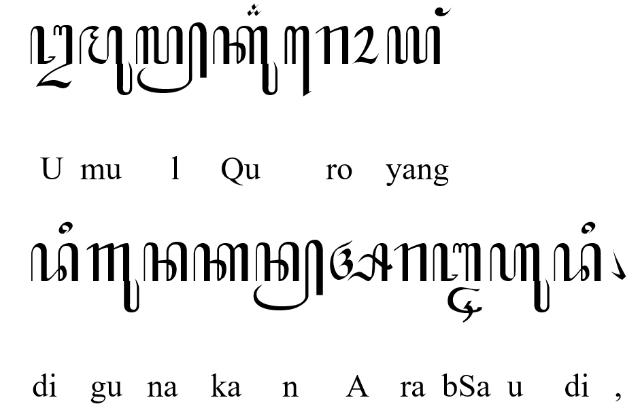-l: (136, 22, 208, 94)
-n: (252, 239, 324, 311)
A: (329, 240, 393, 282)
U: (30, 25, 74, 89)
_T: (448, 287, 482, 323)
alt: (247, 1, 261, 16)
b: (432, 243, 482, 284)
d: (29, 242, 79, 282), (554, 243, 602, 283)
e1: (282, 24, 312, 98)
gu: (84, 241, 140, 312)
hu: (490, 242, 550, 312)
i: (58, 221, 74, 235), (580, 220, 596, 234)
k: (193, 242, 249, 284)
kom: (610, 249, 626, 282)
ku: (212, 25, 278, 95)
mu: (79, 25, 133, 95)
n: (143, 243, 189, 284)
ng: (433, 7, 452, 18)
o: (354, 25, 381, 64)
r: (393, 243, 427, 284), (316, 25, 350, 64)
y: (386, 25, 442, 64)
